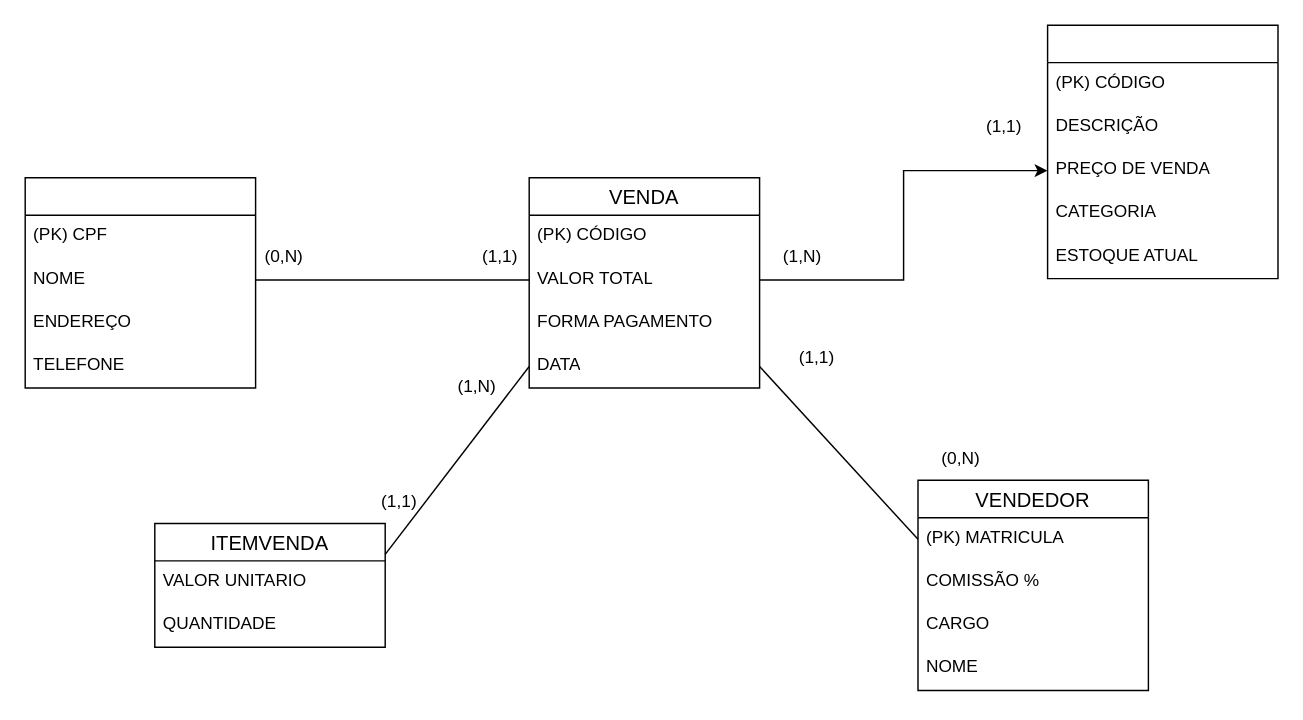
The diagram is 1303 pixels wide and 720 high, and some of its shapes have lost their labels. Here are the shapes that lost their labels. From the top down, the box of each, then its label:
(1046, 24, 1278, 279): PRODUTO
(24, 176, 256, 388): CLIENTE
